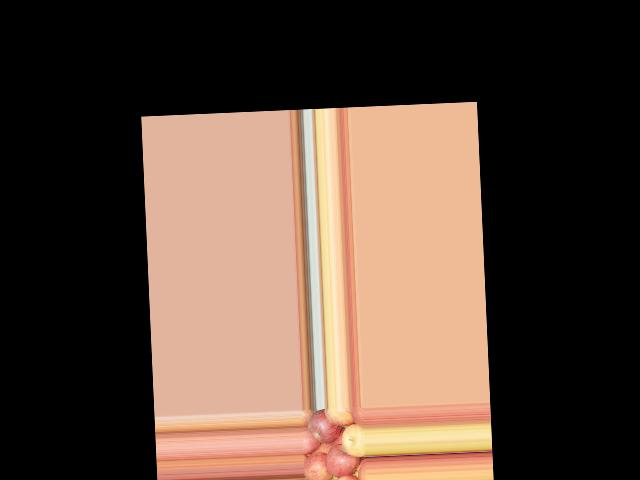apple: (304, 449, 333, 480)
